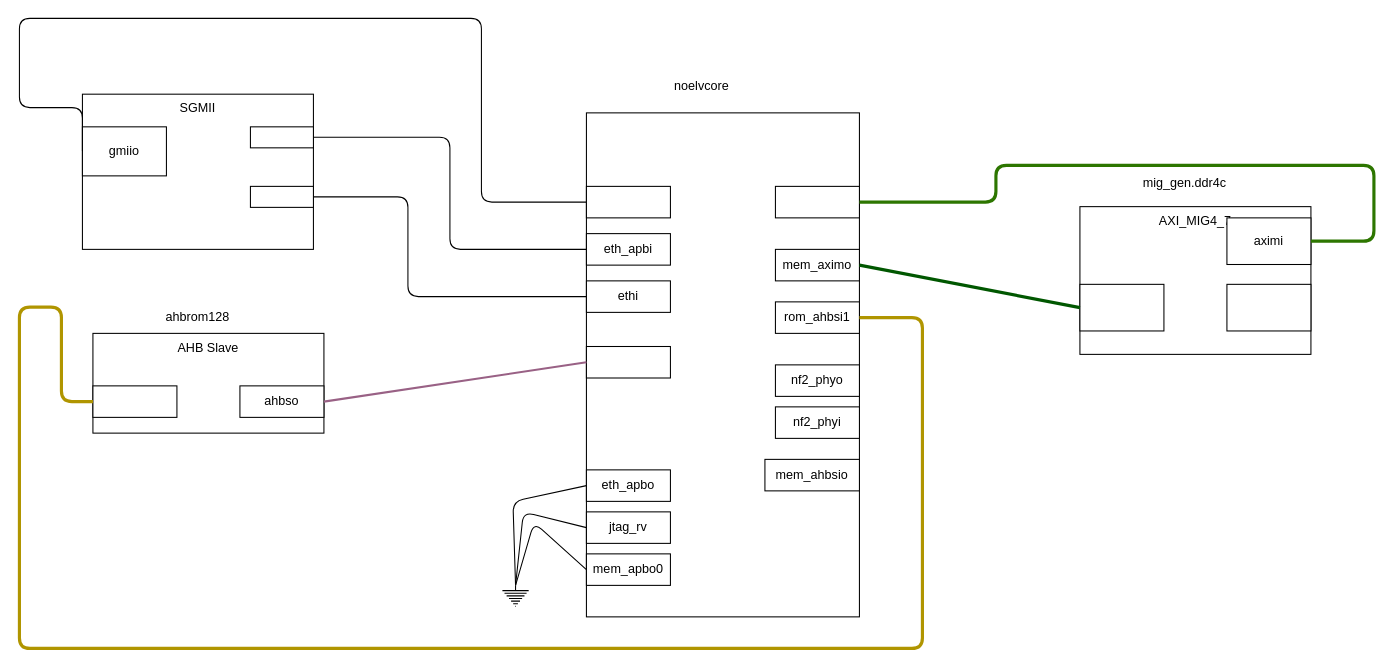
This 1394x669 diagram has some shape labels left out. The shapes that lost their labels are listed below. From the top down, each one's centre as x and y in pixels, then its label:
At (281,137): "apbi".
At (281,196): "gmiii".
At (627,201): "etho".
At (816,201): "mem_aximi".
At (1121,307): "aximo".
At (1268,307): "DDR4".
At (627,361): "rom_ahbso1".
At (134,401): "ahbsi".
